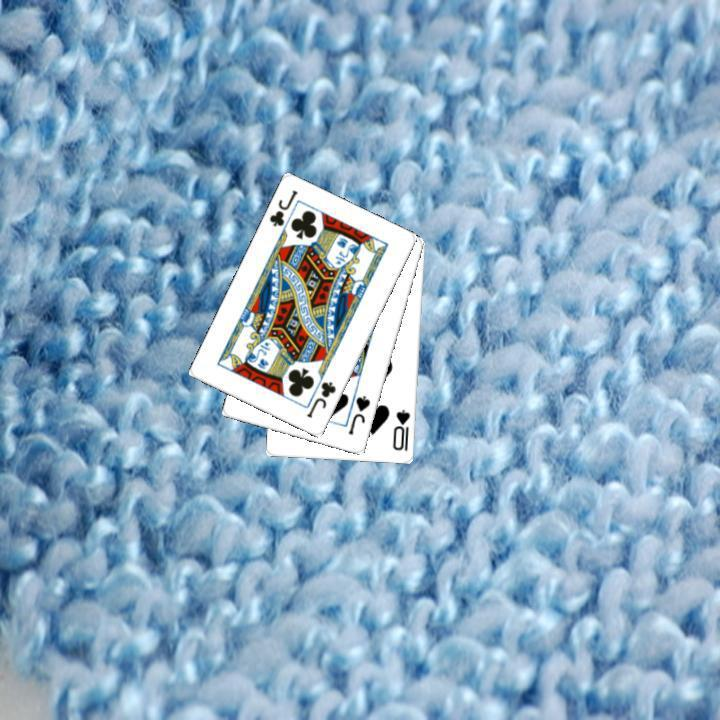10: (389, 405, 412, 453)
J: (302, 378, 338, 421), (265, 186, 300, 229), (344, 391, 372, 437)
